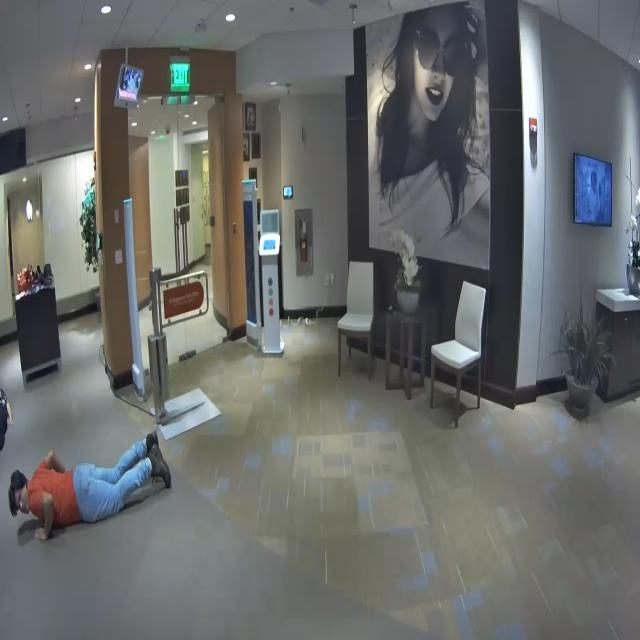fall: (0, 427, 187, 540)
